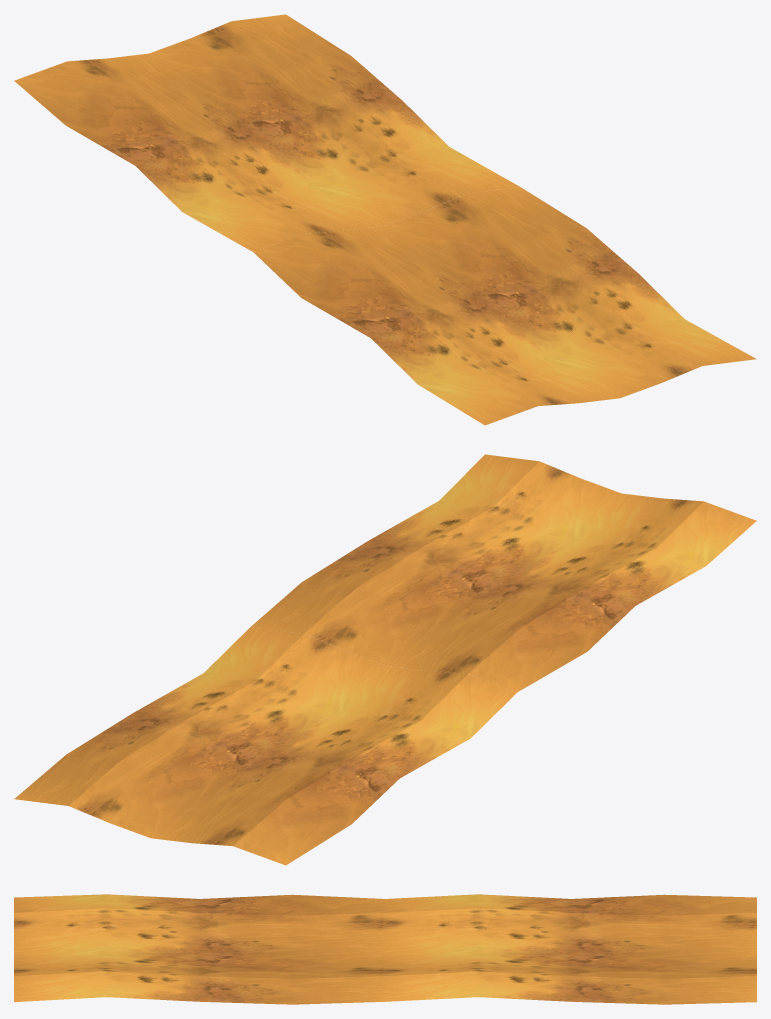
File: desert.FBX
3 renders of one model, top to bottom at view 1: azimuth 30°, elevation 25°; view 2: azimuth 150°, elevation 25°; view 3: azimuth 270°, elevation 25°, orthographic. The views are drawn at different scales.
Visible parts, largest first — view 1: desert; view 2: desert; view 3: desert.
Part boxes in pixels (box(x1,y1,x2,y2)): desert: box(14, 14, 756, 425); desert: box(14, 454, 756, 865); desert: box(14, 894, 756, 1004).
Size of the model in its own units: 25309 by 1023 by 71991.
